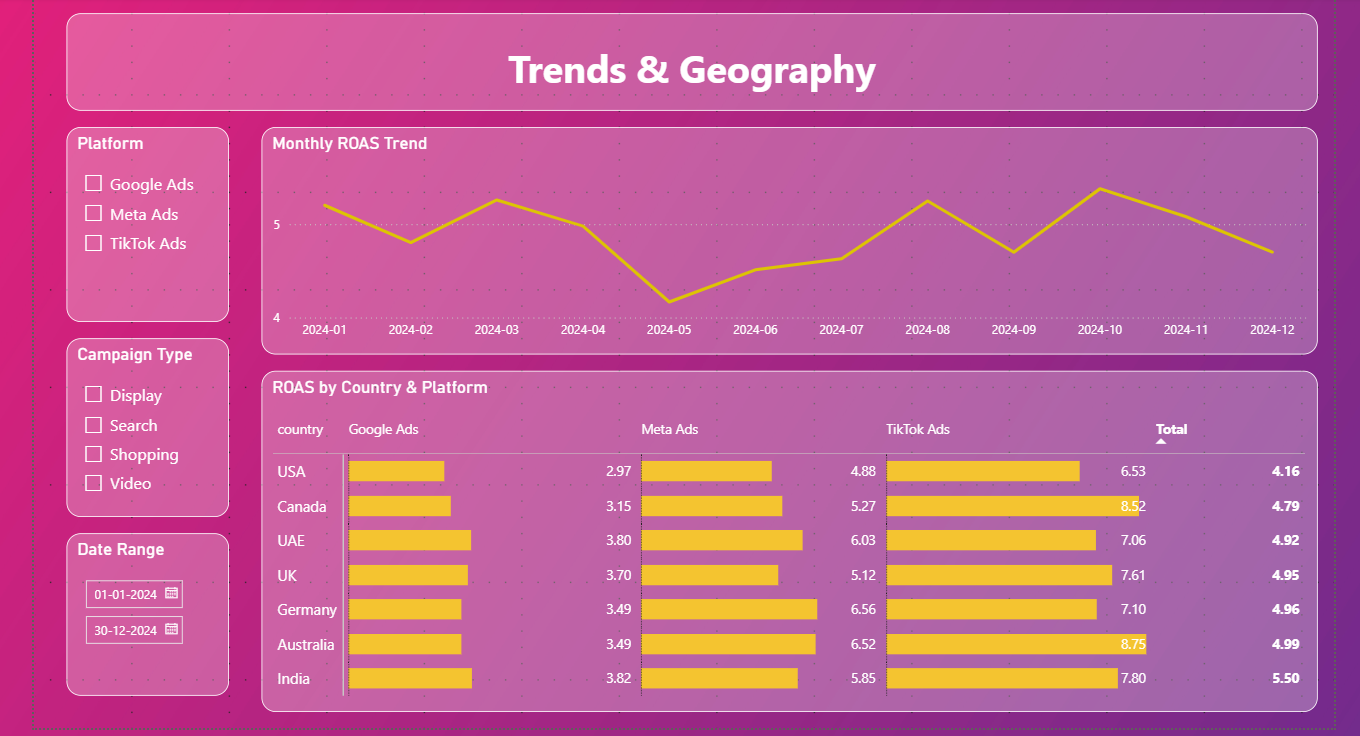

Layout of this report page (visuals, bound fields, positions):
{"tool":"powerbi","page":{"name":"Trends & Geography","canvas":[1280,720],"ordinal":2},"visuals":[{"type":"textbox","box":[32,16,1232,96],"z":0},{"type":"lineChart","title":"Monthly ROAS Trend","fields":{"Category":["DateTable.Year-Month"],"Y":["global_ads_performance_prepared.ROAS Measure"]},"box":[224,128,1040,224],"z":1000},{"type":"pivotTable","title":"ROAS by Country & Platform","fields":{"Rows":["global_ads_performance_prepared.country"],"Columns":["global_ads_performance_prepared.platform"],"Values":["global_ads_performance_prepared.ROAS Measure"]},"box":[224,368,1040,336],"z":2000},{"type":"slicer","title":"Platform","fields":{"Values":["global_ads_performance_prepared.platform"]},"box":[32,128,160,192],"z":3000},{"type":"slicer","title":"Campaign Type","fields":{"Values":["global_ads_performance_prepared.campaign_type"]},"box":[32,336,160,176],"z":4000},{"type":"slicer","title":"Date Range","fields":{"Values":["DateTable.Date"]},"box":[32,528,160,160],"z":5000}]}

Visuals, with their boxes in screenshot pixels (x1, y1, x2, y2):
textbox: {"left": 64, "top": 13, "right": 1307, "bottom": 109}
"Monthly ROAS Trend" lineChart: {"left": 258, "top": 126, "right": 1307, "bottom": 352}
"ROAS by Country & Platform" pivotTable: {"left": 258, "top": 368, "right": 1307, "bottom": 707}
"Platform" slicer: {"left": 64, "top": 126, "right": 226, "bottom": 319}
"Campaign Type" slicer: {"left": 64, "top": 335, "right": 226, "bottom": 513}
"Date Range" slicer: {"left": 64, "top": 529, "right": 226, "bottom": 691}
